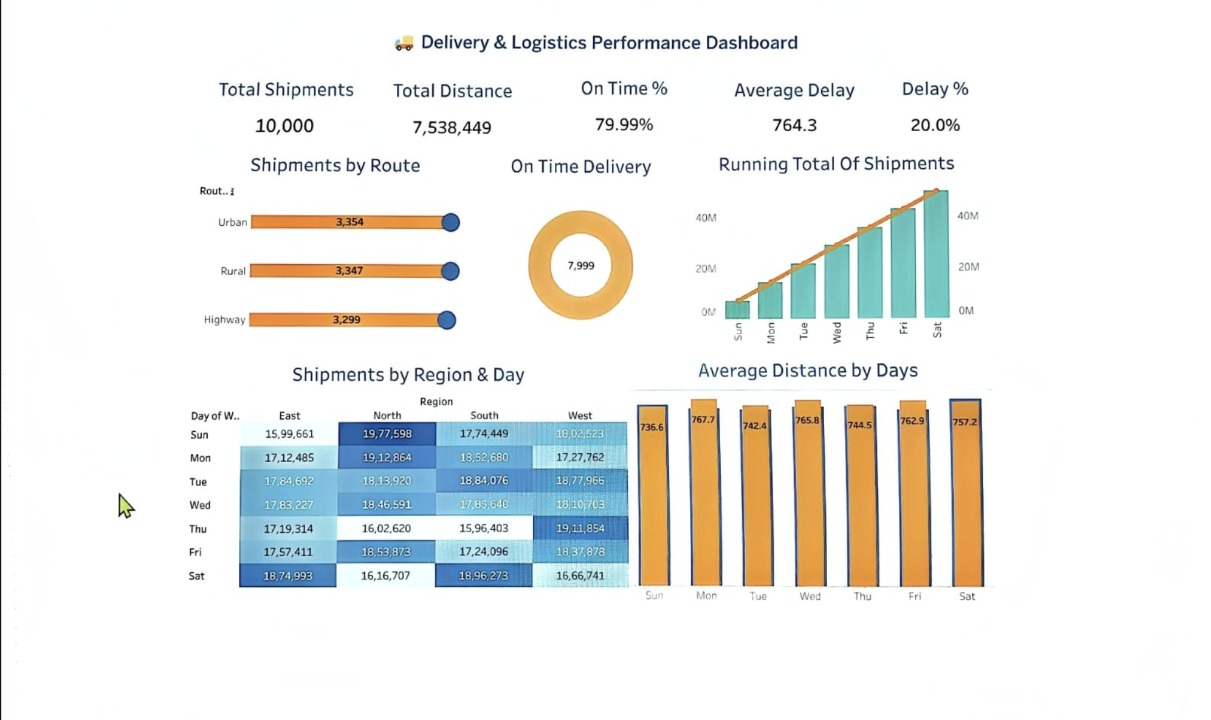

This screenshot's page, from the dashboard's own definition file:
{"tool":"tableau","page":{"name":"Dashboard 2","canvas":[1220,960],"ordinal":1},"visuals":[{"type":"text","box":[108,3,992,61]},{"type":"worksheet","title":"On Time %","mark":"Automatic","box":[518,74,265,101]},{"type":"worksheet","title":"Delay %","mark":"Automatic","box":[1027,77,186,103]},{"type":"worksheet","title":"Total Shipments","mark":"Automatic","box":[13,78,247,101]},{"type":"worksheet","title":"Average Delay Time","mark":"Automatic","box":[791,78,235,99]},{"type":"worksheet","title":"Total Distance","mark":"Automatic","box":[265,79,248,103]},{"type":"worksheet","title":"Trend (2)","mark":"Bar","rows":["Shipment_ID","Shipment_ID"],"cols":["Day_of_Week"],"box":[726,188,490,289]},{"type":"worksheet","title":"Route","mark":"Automatic","rows":["Route_Type"],"cols":["Shipment_ID","Shipment_ID"],"box":[13,190,406,284]},{"type":"worksheet","title":"Donut","mark":"Pie","cols":["Calculation_0343654823362577","Calculation_0343654823362577"],"box":[425,190,322,284]},{"type":"worksheet","title":"Sheet 12","mark":"Bar","rows":["Delay_Minutes","Distance_km"],"cols":["Day_of_Week"],"box":[656,488,541,356]},{"type":"worksheet","title":"Heat","mark":"Automatic","rows":["Day_of_Week"],"cols":["Region"],"box":[3,494,653,327]}]}

Visuals, with their boxes on the page's 1220x960 design canvas (x1, y1, x2, y2). These are canvas units, not pixel positions in the 1211x720 screenshot, which may show the page scaled, cropped or inside an application window:
text: [x1=108, y1=3, x2=1100, y2=64]
"On Time %" worksheet: [x1=518, y1=74, x2=783, y2=175]
"Delay %" worksheet: [x1=1027, y1=77, x2=1213, y2=180]
"Total Shipments" worksheet: [x1=13, y1=78, x2=260, y2=179]
"Average Delay Time" worksheet: [x1=791, y1=78, x2=1026, y2=177]
"Total Distance" worksheet: [x1=265, y1=79, x2=513, y2=182]
"Trend (2)" worksheet (Bar marks): [x1=726, y1=188, x2=1216, y2=477]
"Route" worksheet: [x1=13, y1=190, x2=419, y2=474]
"Donut" worksheet (Pie marks): [x1=425, y1=190, x2=747, y2=474]
"Sheet 12" worksheet (Bar marks): [x1=656, y1=488, x2=1197, y2=844]
"Heat" worksheet: [x1=3, y1=494, x2=656, y2=821]
